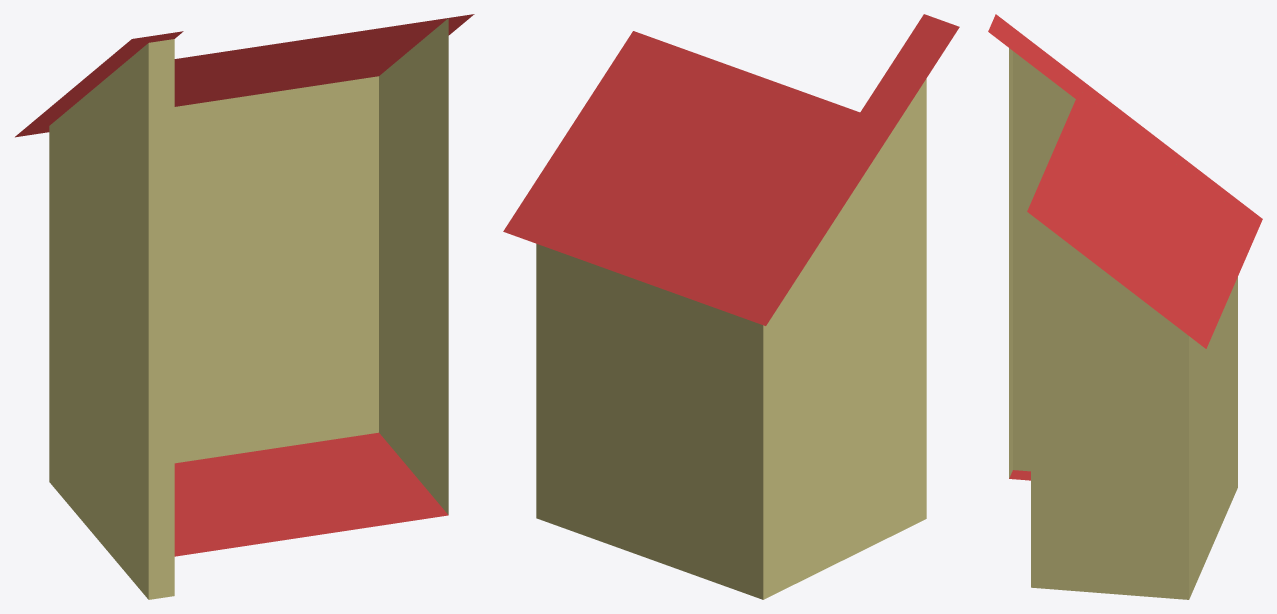
3 views of the same model, side by side, from view 1: azimuth 30°, elevation 25°; view 2: azimuth 150°, elevation 25°; view 3: azimuth 270°, elevation 25° (orthographic). The views are drawn at different scales.
Bounding box in the file's own units: 8.35 × 6.42 × 11.49.
